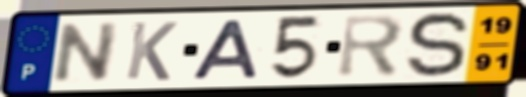5: (267, 13, 326, 82)
A: (189, 18, 262, 82)
K: (122, 19, 180, 83)
N: (49, 20, 123, 85)
R: (335, 13, 408, 80)
S: (404, 10, 473, 81)
